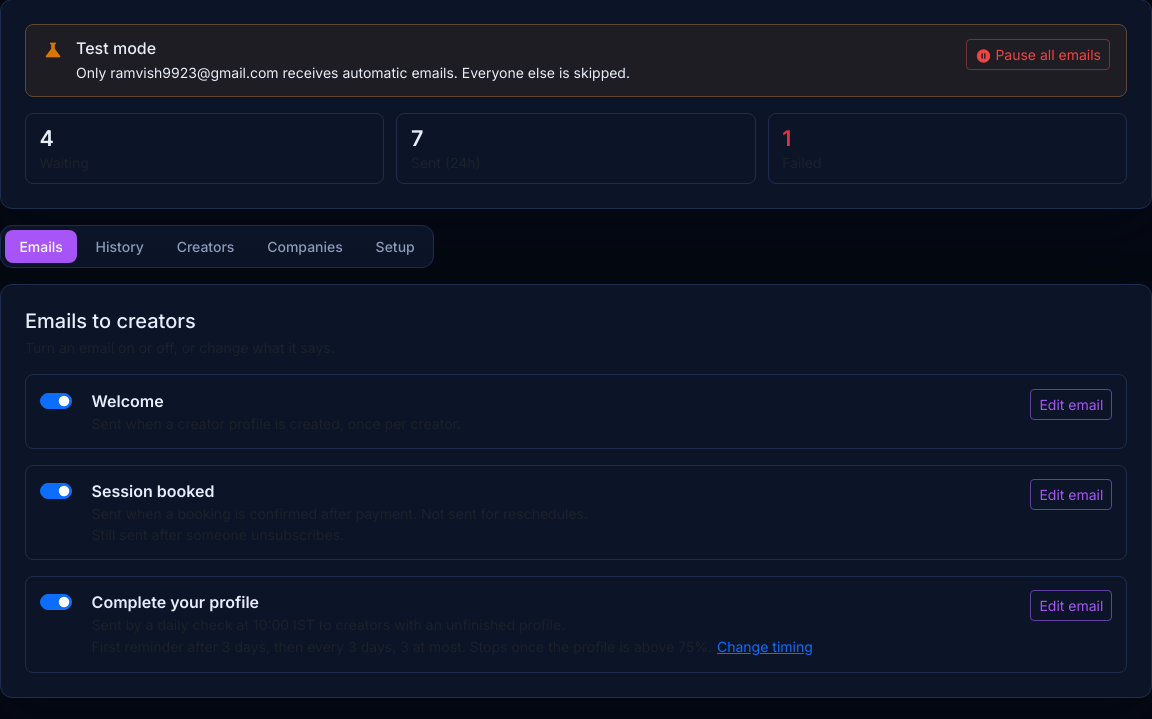
Test: Email control › validates and saves reminder timing from the reminder's own row
This screenshot has width=1152, height=719.
Check: the field labelled "Days between reminders" is not shown
Click the button "Change timing" at (765, 647), box [716,635,814,658]
(page scrolled)
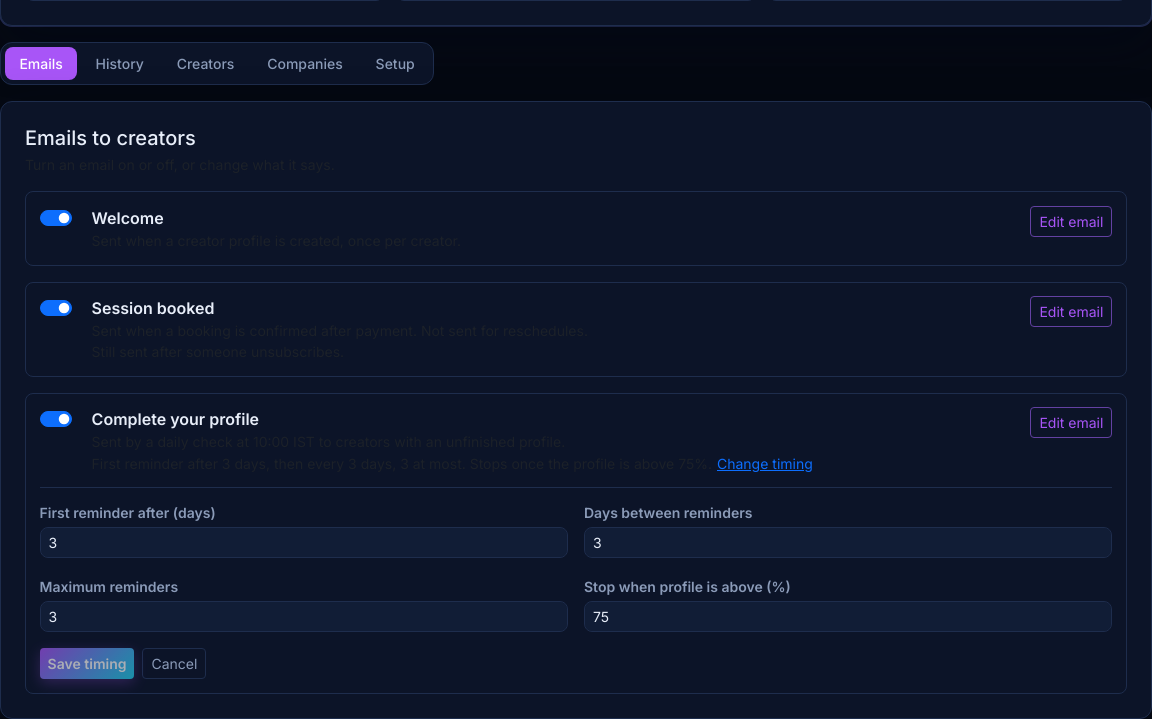
Check: the button "Save timing" is disabled, box [40,648,134,679]
Replace the text in the number field labelled "Days between reminders" with "0" at (848, 543), box [584,527,1112,558]
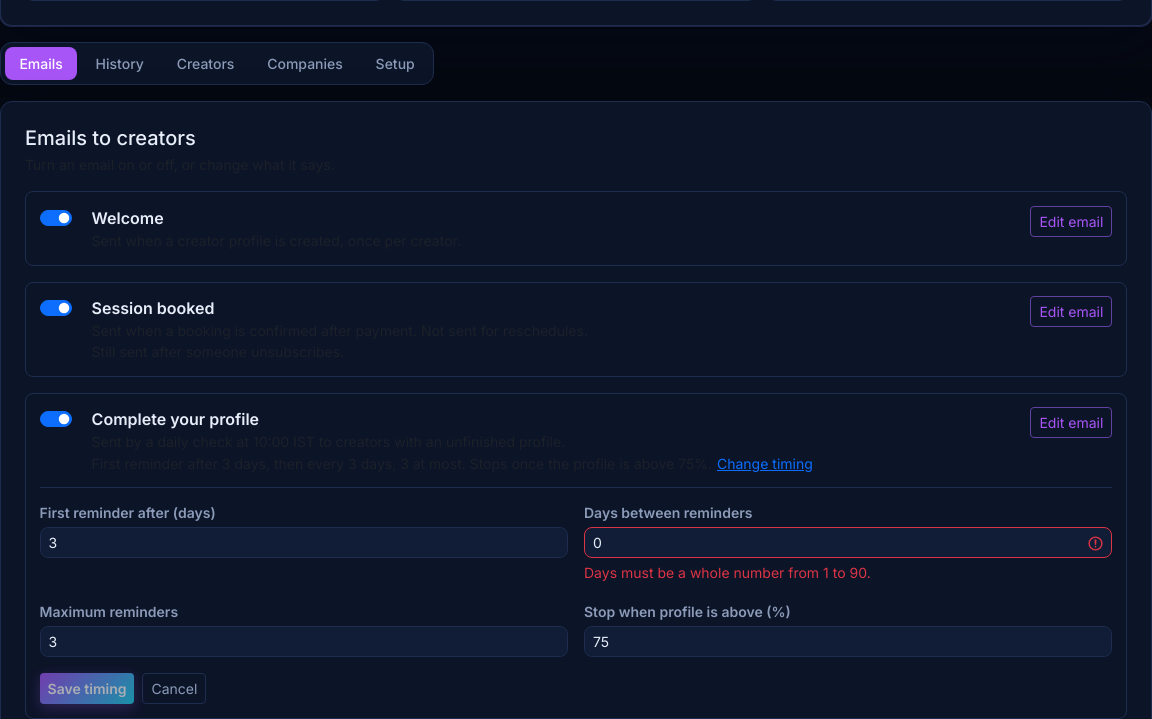
Check: the button "Save timing" is disabled, box [40,673,134,704]
Check: the text "Days must be a whole number from 1 to 90." is shown, box [584,564,871,581]
Replace the text in the number field labelled "Days between reminders" with "5" at (848, 543), box [584,527,1112,558]
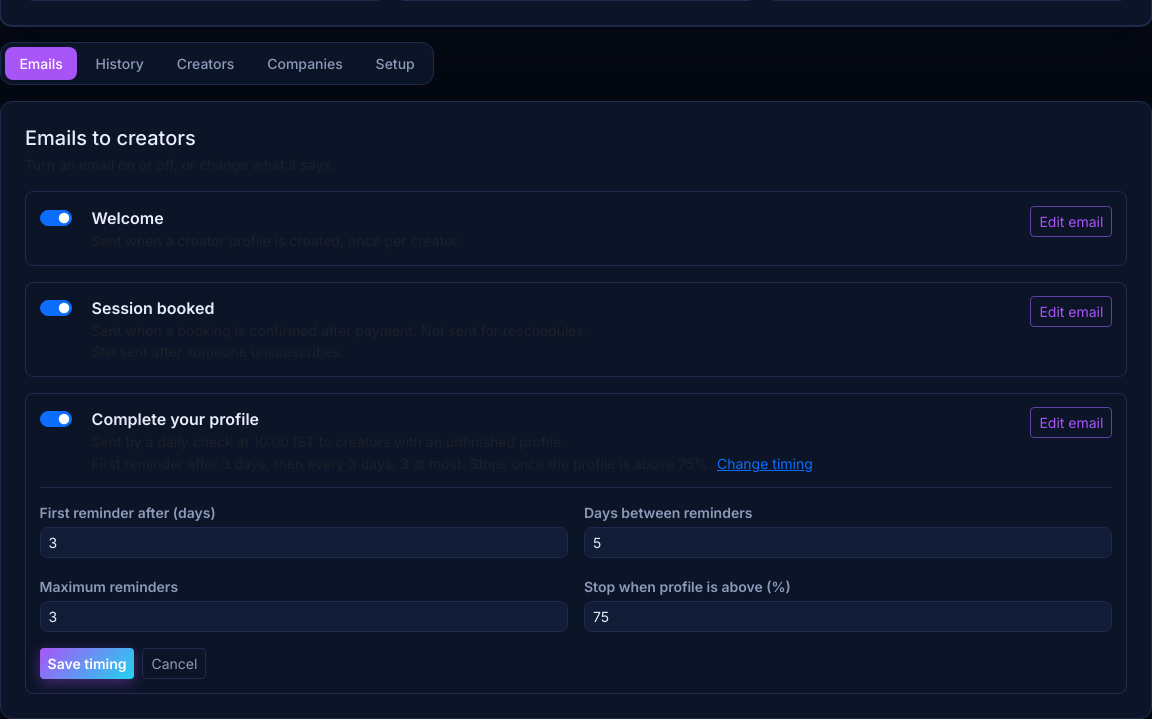
Click the button "Save timing" at (87, 664), box [40,648,134,679]
(page scrolled)
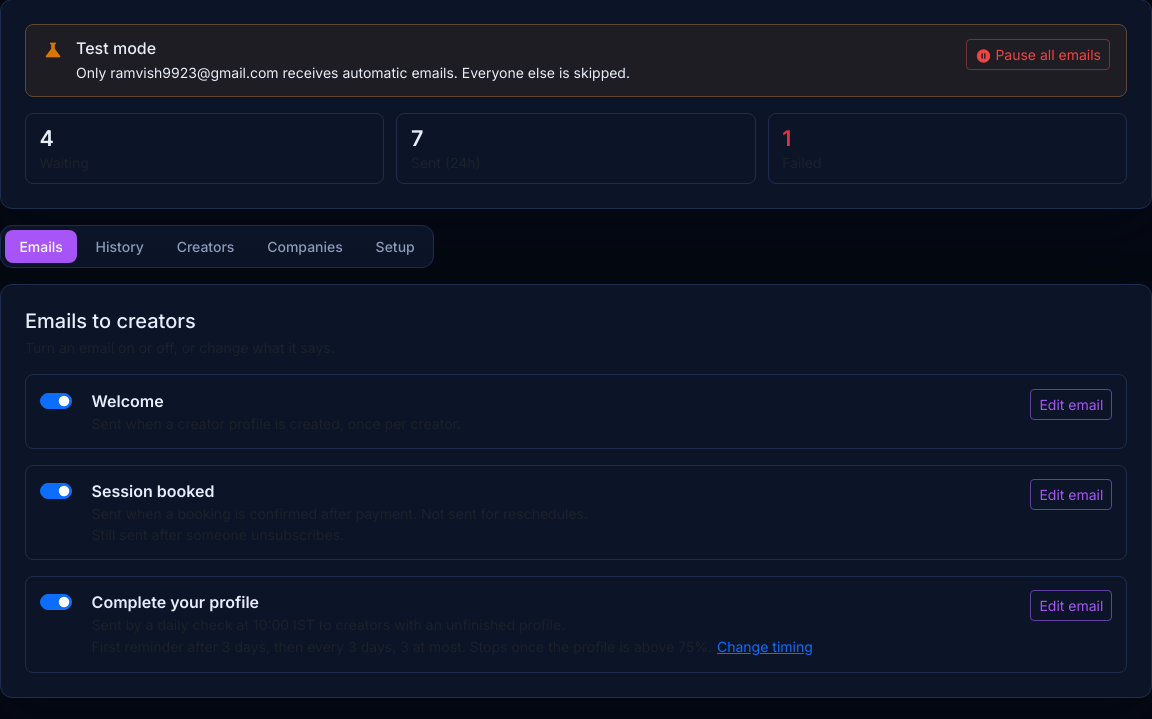
Check: the label labelled "Days between reminders" is gone
